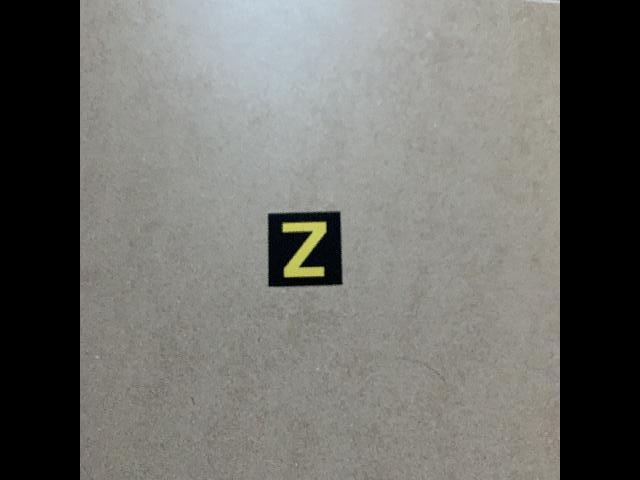alphabet_z: (266, 211, 343, 288)
